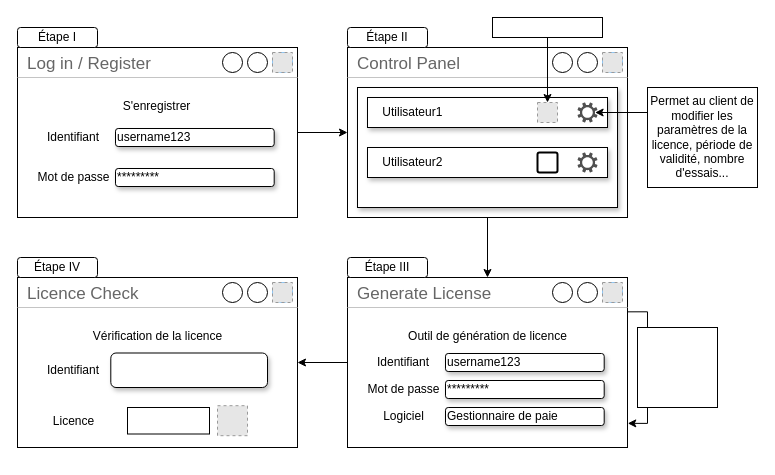
Image size: 775x475. Some labels were removed from this diagram. Grey dashed boxes stand in for pictures. The shapes that lost their labels are listed below. From the top down, each one's centre as x and y in pixels, then its label:
[547,27]: Gérer par le client
[190,371]: 89766f7a-bd84-4b19-98ca-558a71a96bde
[677,367]: Génère une licence spécifique à la machine de l'utilisateur
[168,420]: LicenseFile
